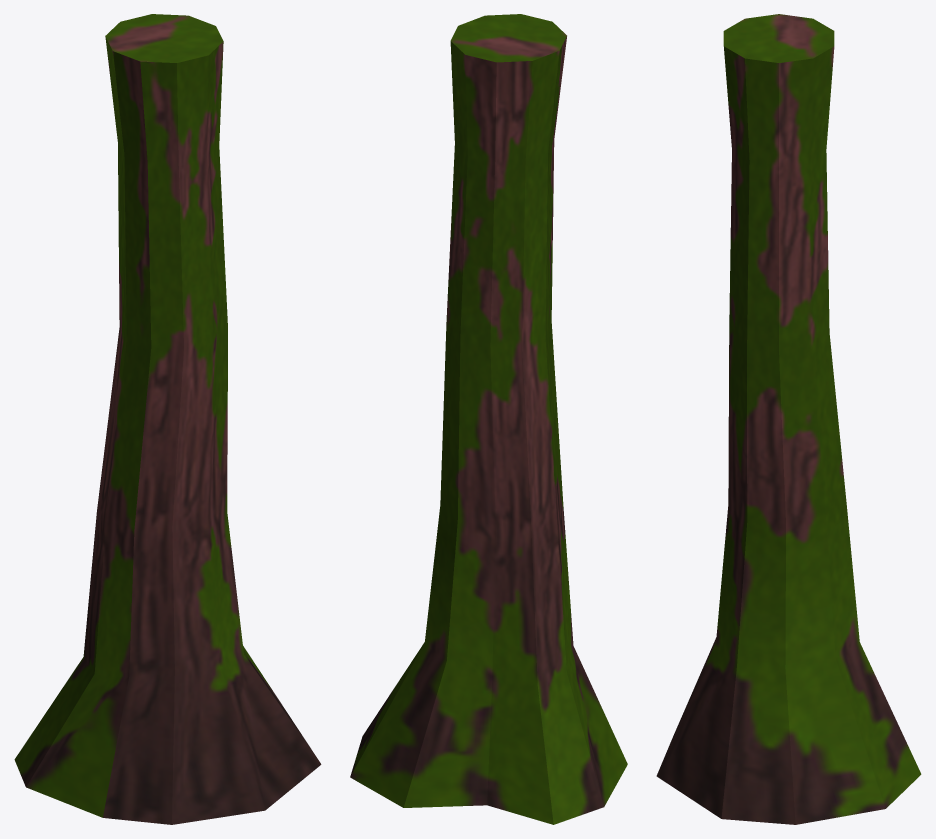
File: tree.fbx
3 views of the same model, side by side, from view 1: azimuth 30°, elevation 25°; view 2: azimuth 150°, elevation 25°; view 3: azimuth 270°, elevation 25° (orthographic). The views are drawn at different scales.
Visible parts, largest first — view 1: Treebase; view 2: Treebase; view 3: Treebase.
Boxes of the visible parts, x1,y1,x2,y2 form: Treebase: (14, 14, 321, 824); Treebase: (350, 14, 627, 824); Treebase: (656, 14, 921, 824).
Bounding box in the file's own units: 2666 × 7278 × 2430.
